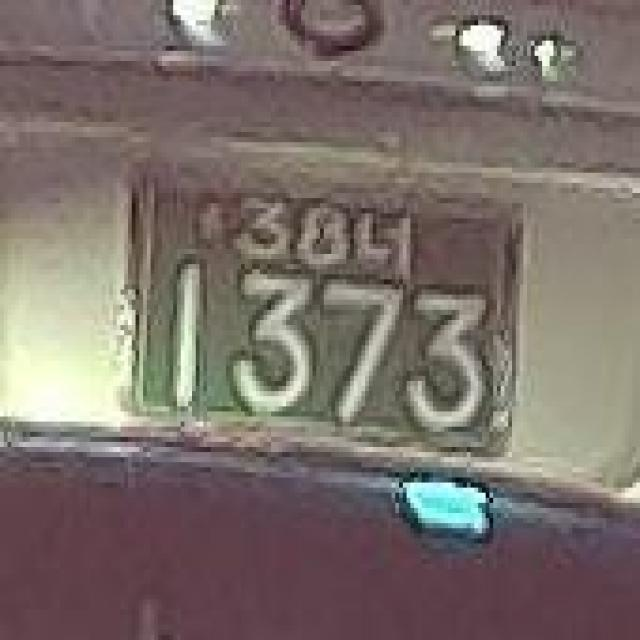illegal_plate: (116, 106, 544, 520)
